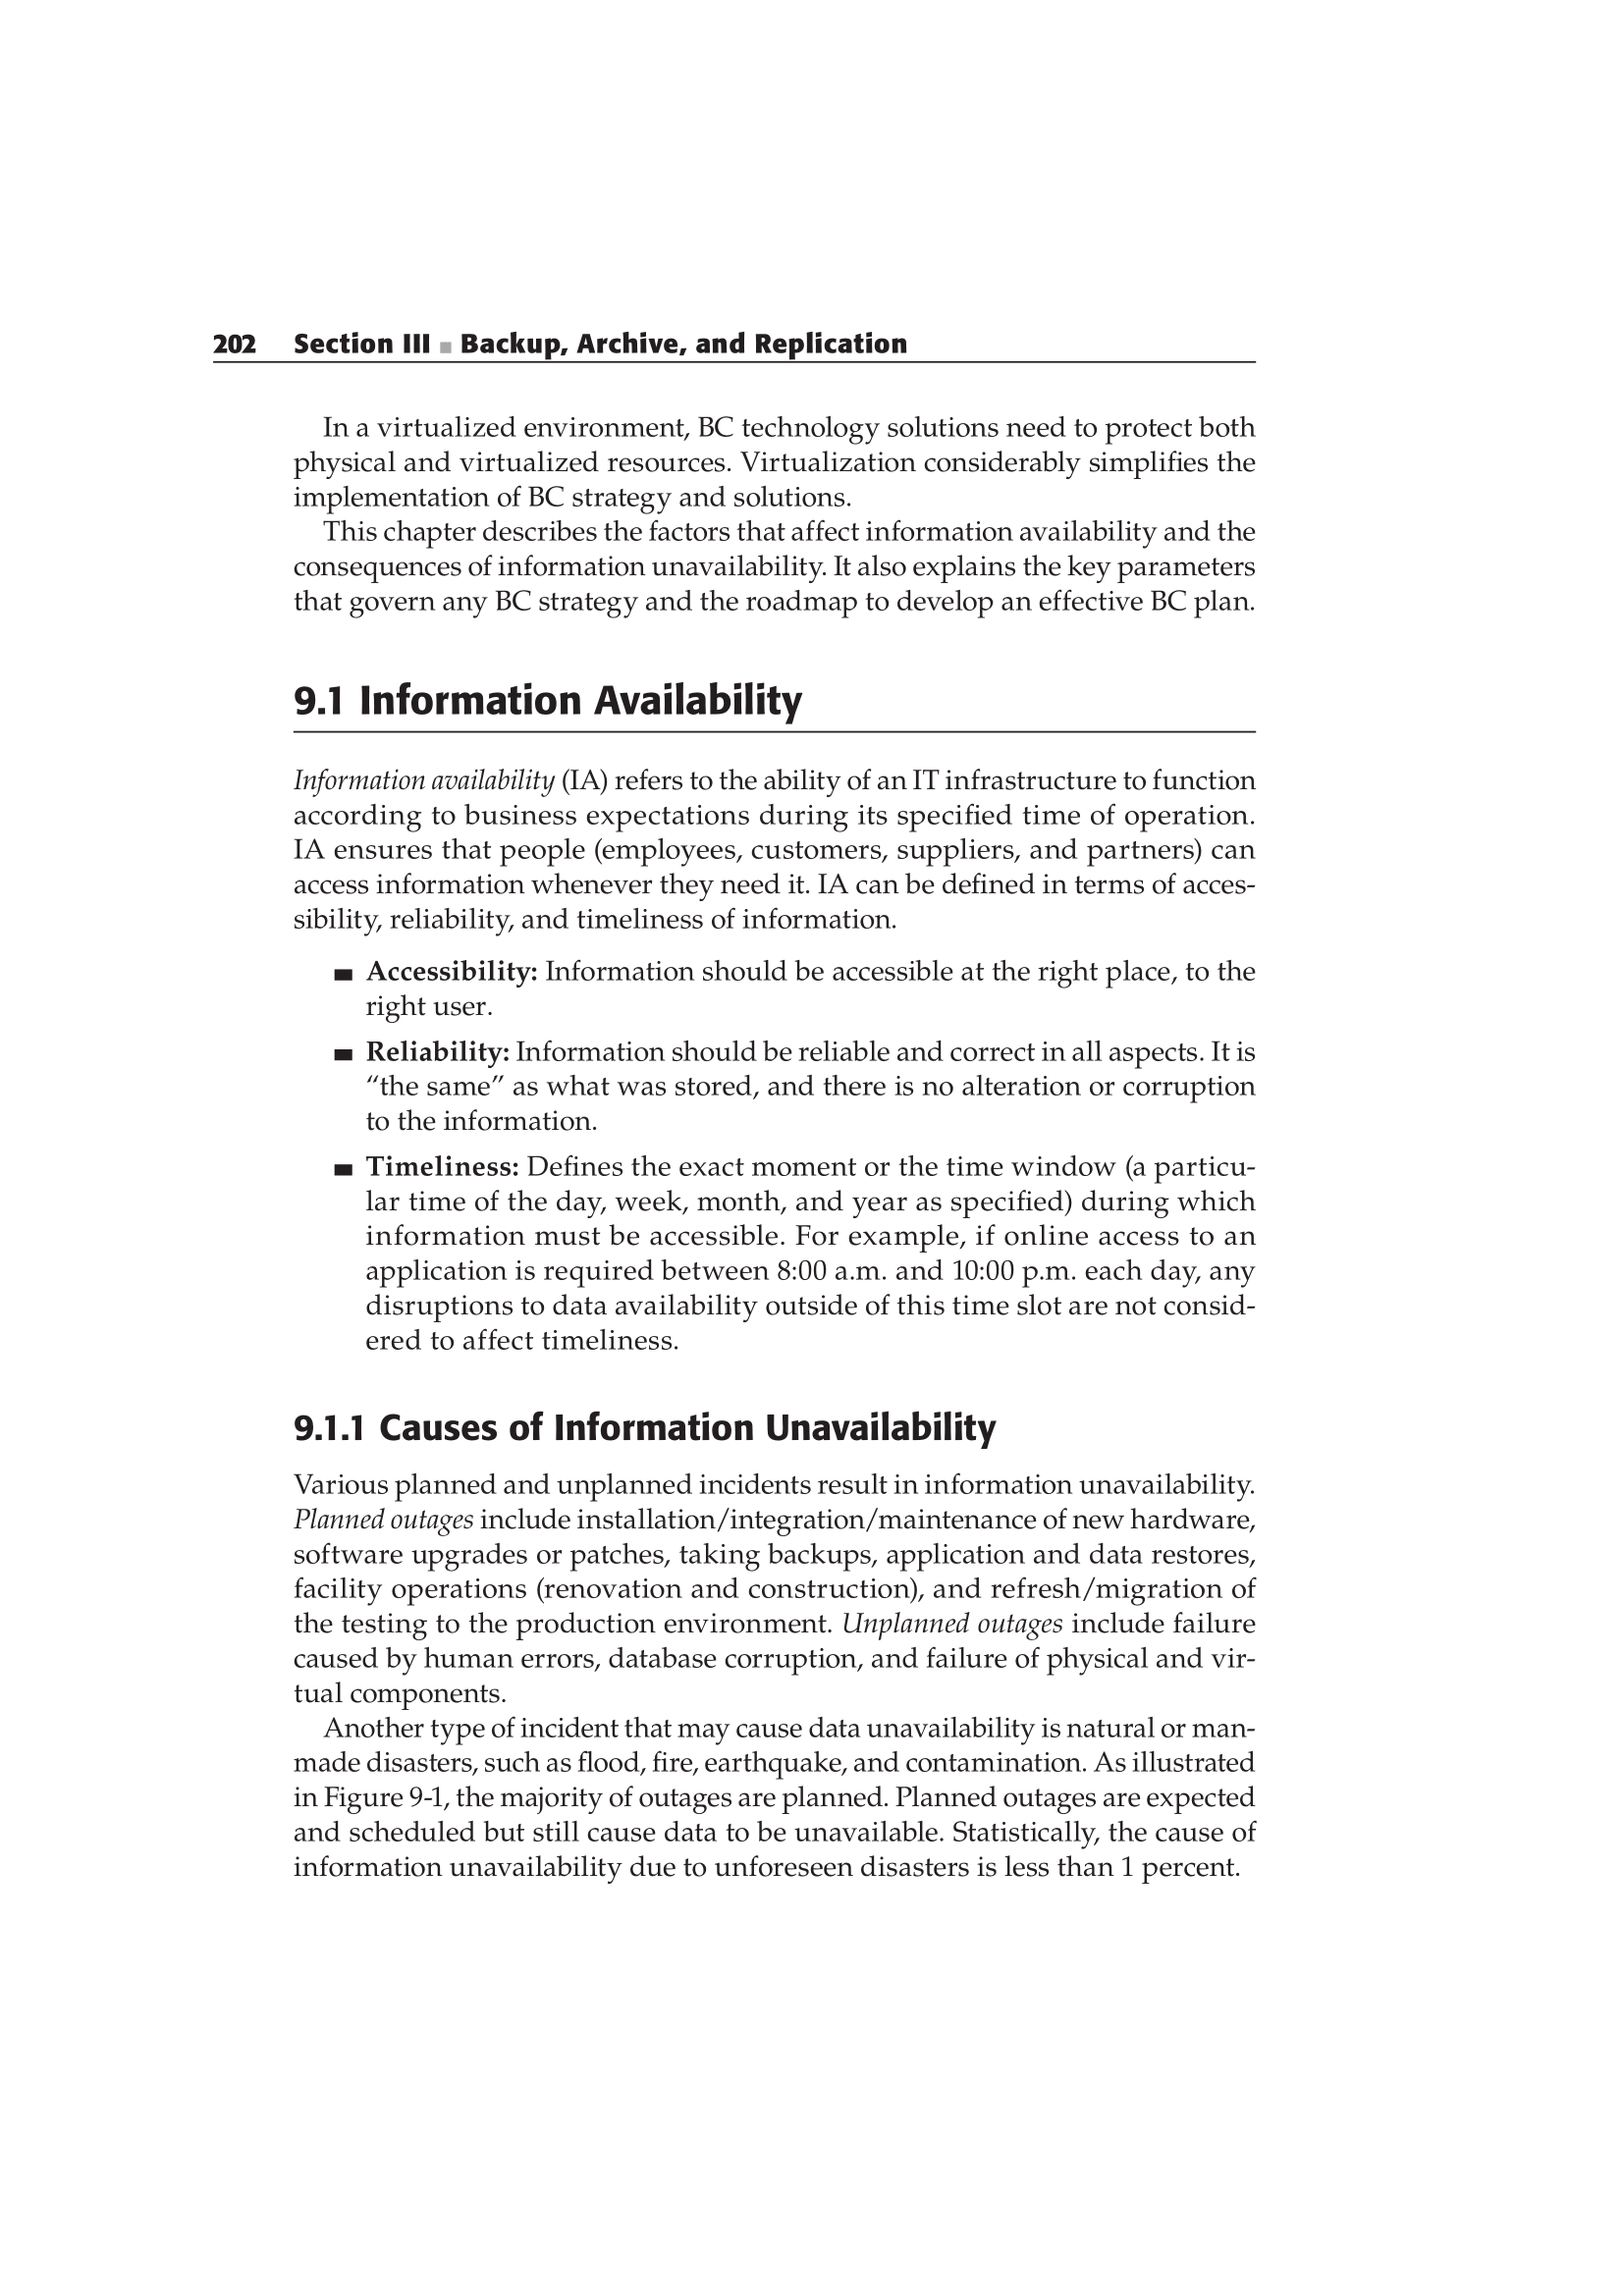Paragraph: (223, 393, 1312, 657), (235, 1469, 1295, 1699), (123, 1711, 1354, 1901), (265, 1141, 1303, 1353), (211, 743, 1298, 930), (234, 1022, 1326, 1144), (218, 943, 1414, 1016), (79, 314, 1068, 377), (220, 1403, 1212, 1446), (223, 672, 841, 723)
